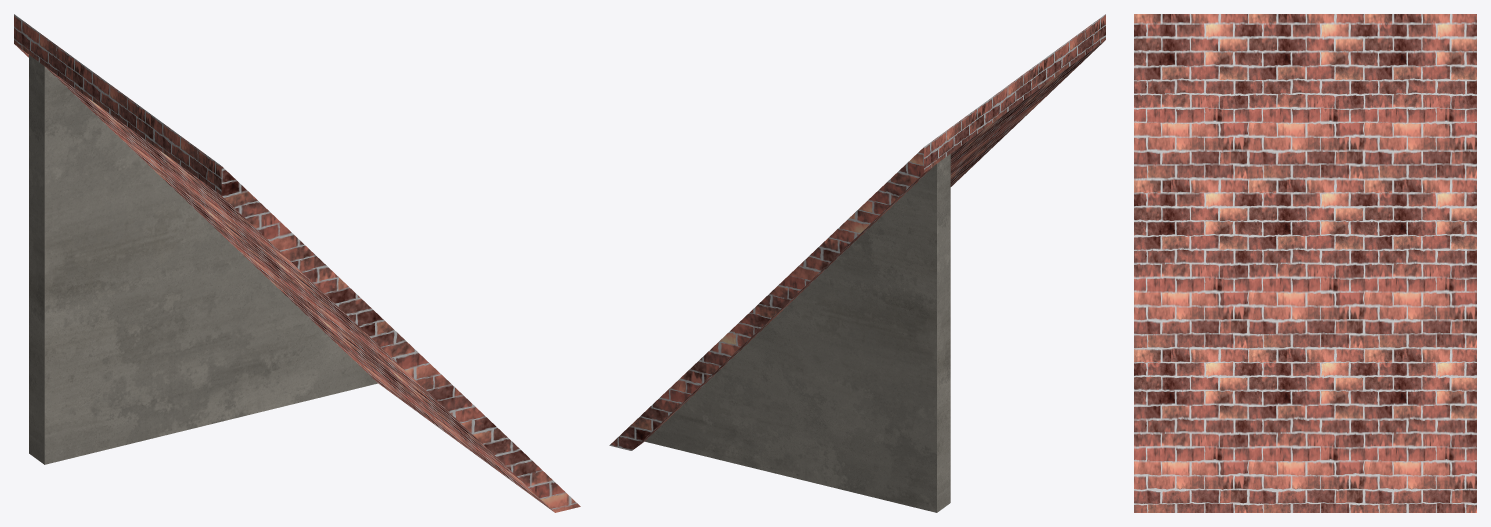
File: Mod_roof_corner_left.fbx
3 renders of one model, left to right at view 1: azimuth 30°, elevation 25°; view 2: azimuth 150°, elevation 25°; view 3: azimuth 270°, elevation 25°, orthographic. The views are drawn at different scales.
Visible parts, largest first — view 1: Mod_roof_corner_extended_edge; view 2: Mod_roof_corner_extended_edge; view 3: Mod_roof_corner_extended_edge.
Boxes of the visible parts, x1,y1,x2,y2 form: Mod_roof_corner_extended_edge: [14, 14, 580, 512]; Mod_roof_corner_extended_edge: [609, 14, 1105, 512]; Mod_roof_corner_extended_edge: [1134, 14, 1476, 512].
Bounding box in the file's own units: 350 × 399 × 350.
